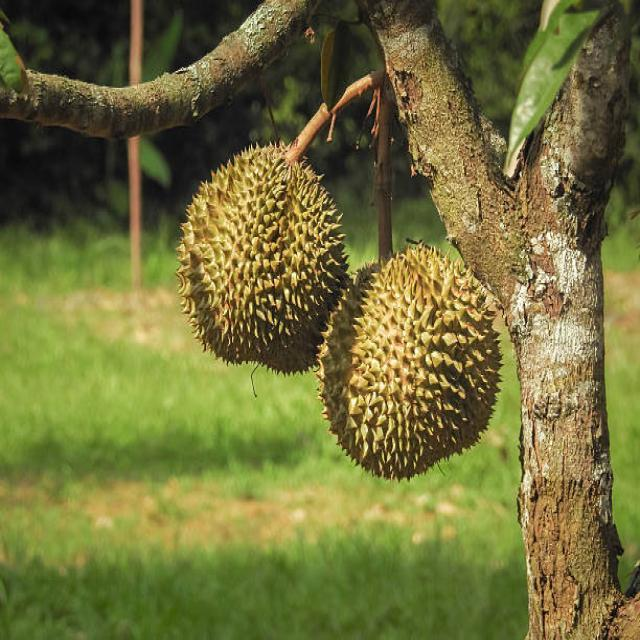mature: (319, 243, 501, 479), (178, 145, 348, 372)
